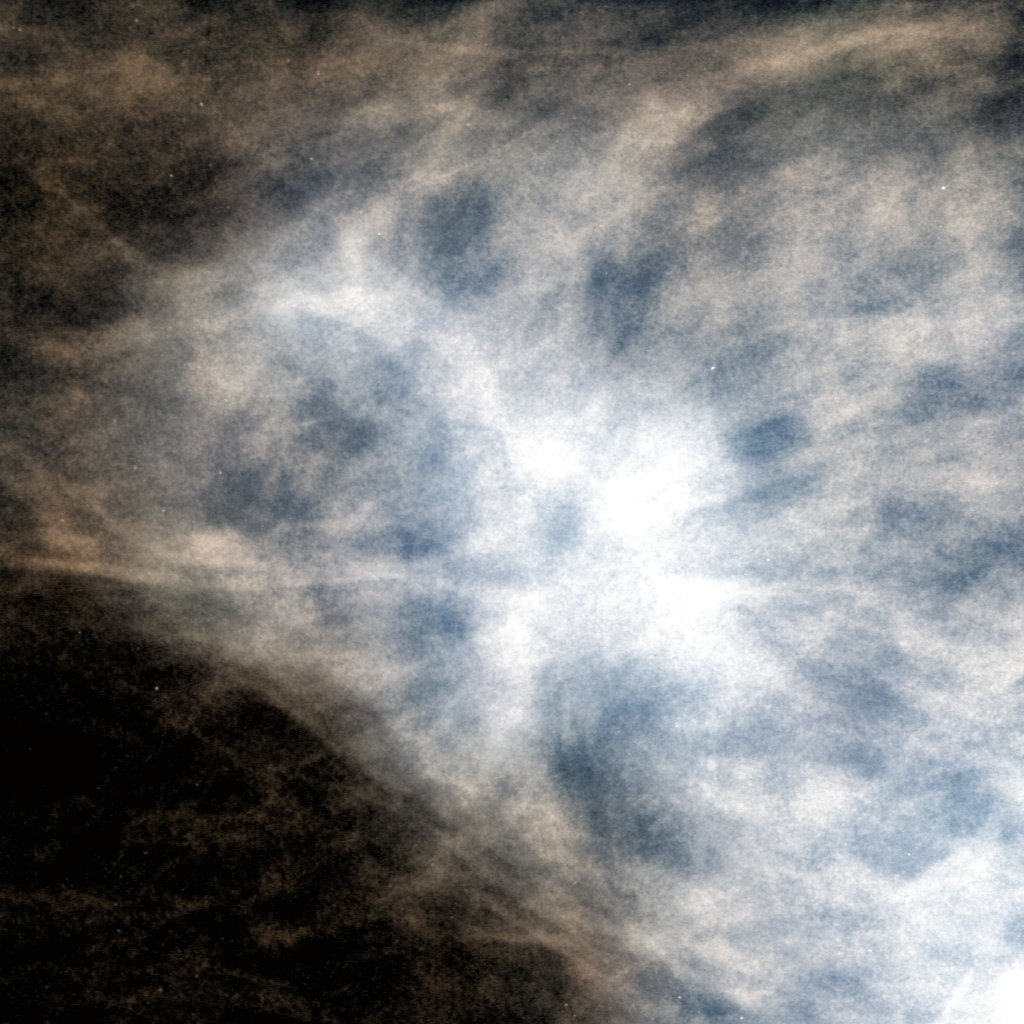tumor: (283, 278, 741, 746)
